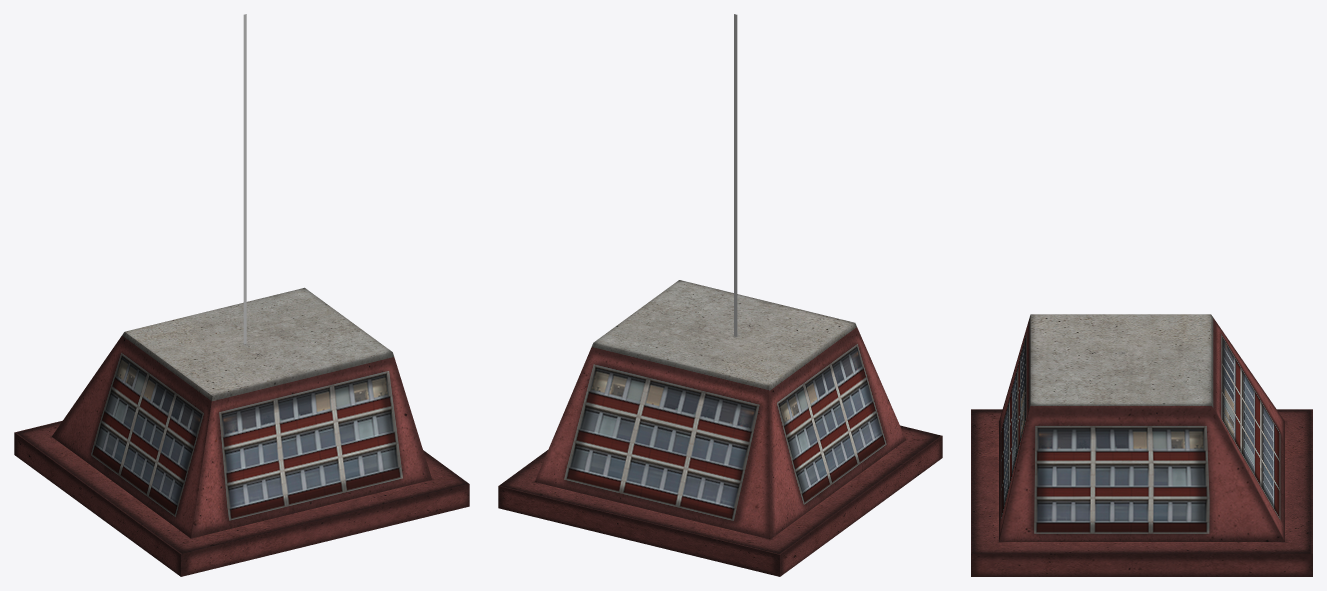
The model's file is building 1 top.FBX.
3 renders of one model, left to right at view 1: azimuth 30°, elevation 25°; view 2: azimuth 150°, elevation 25°; view 3: azimuth 270°, elevation 25°, orthographic. The views are drawn at different scales.
Visible parts, largest first — view 1: Group5; view 2: Group5; view 3: Group5.
Part boxes in pixels (box(x1,y1,x2,y2)): Group5: box(14, 14, 469, 576); Group5: box(498, 14, 942, 576); Group5: box(971, 314, 1312, 576).
Size of the model in its own units: 267 by 420 by 267.
